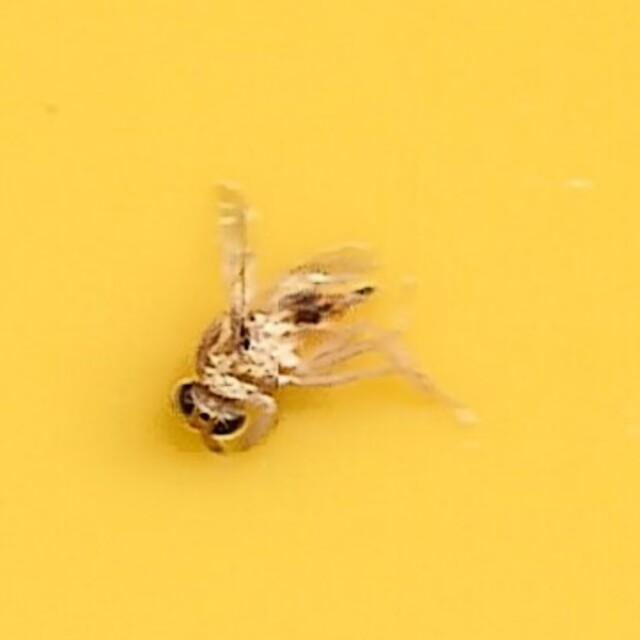Brachycera: (177, 179, 463, 461)
